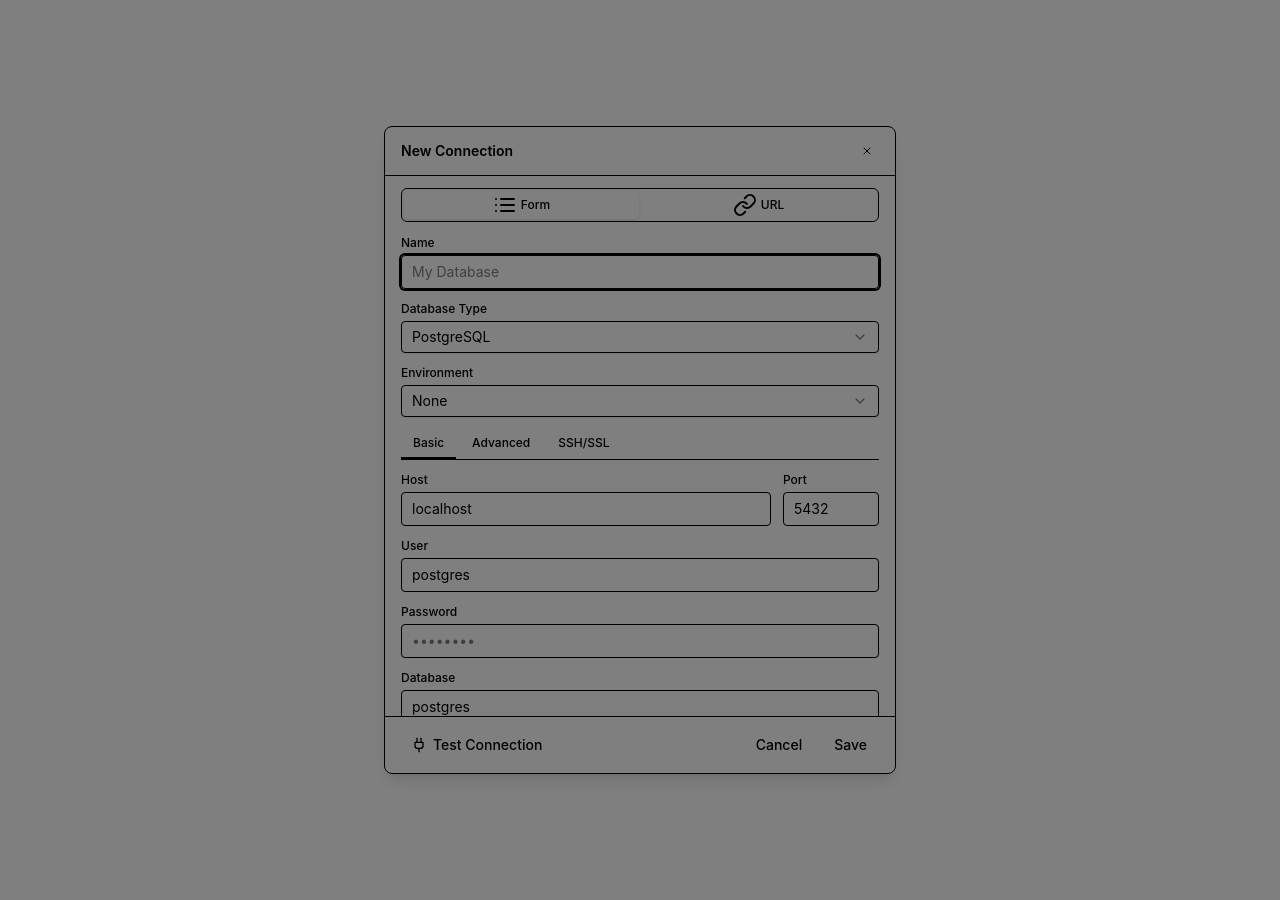
Test: ConnectionDialog form segments (#2436) › [conn-segment] transport security controls live in SSH/SSL, not in Basic
The width and height of the screenshot is (1280, 900).
Expected: the field labelled "SSL mode" is not shown
Press the mouse on the tab "SSH/SSL" at (584, 444), box [546,429,622,459]
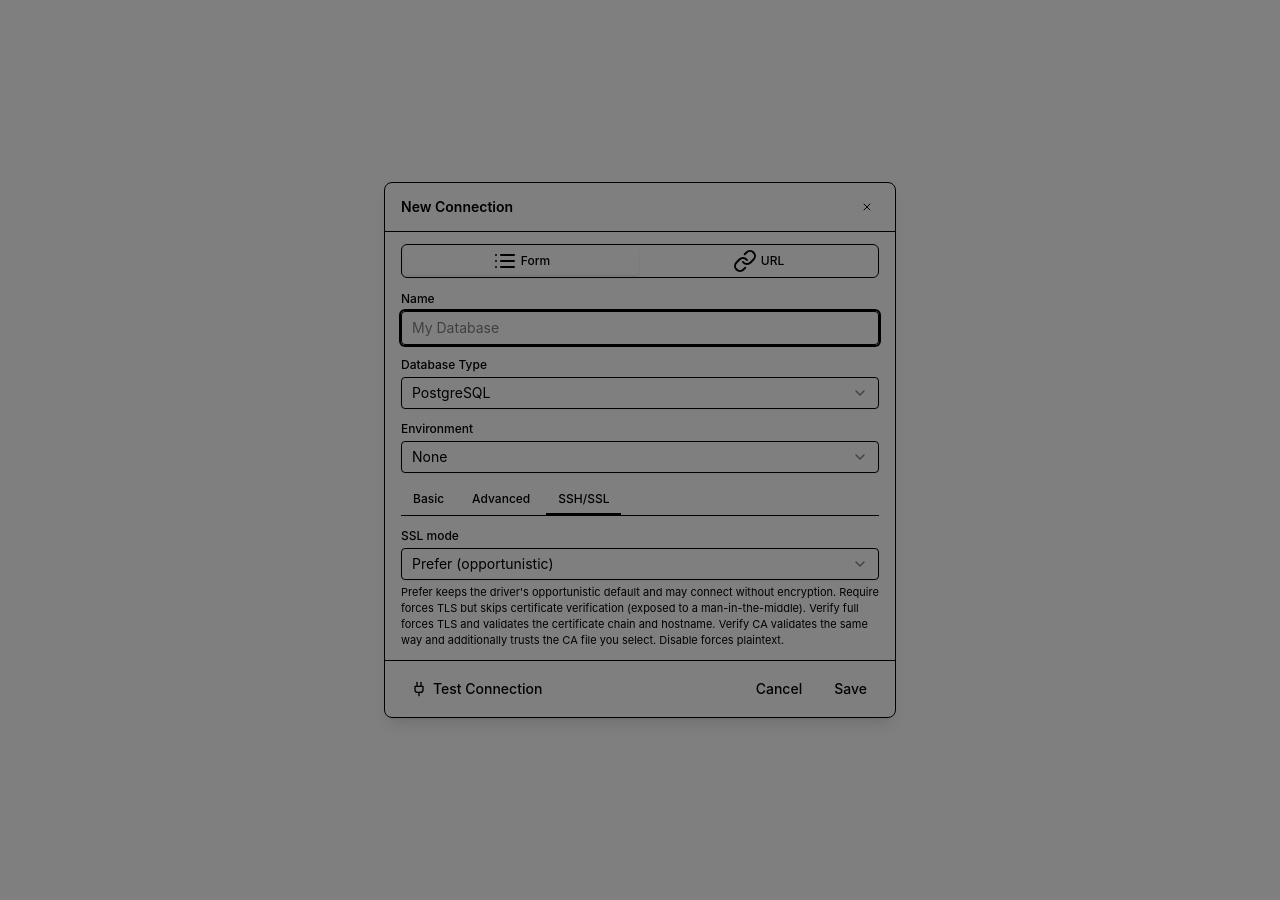
Expected: the field labelled "Host" is not shown
Expected: the dropdown named "SSL mode" is shown, [401,548,879,580]
